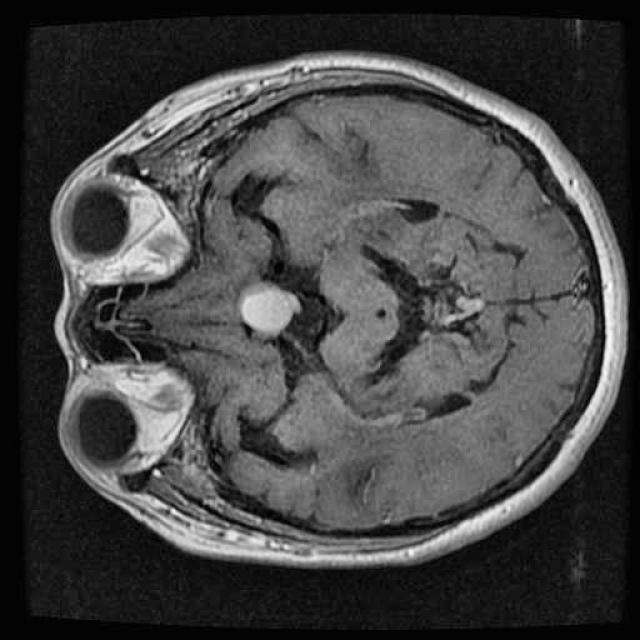Tumor: (228, 272, 310, 350)
